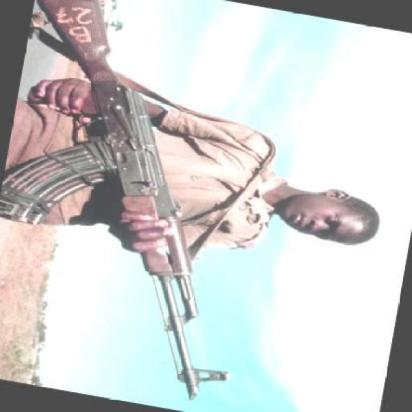Gun: (49, 1, 233, 378)
